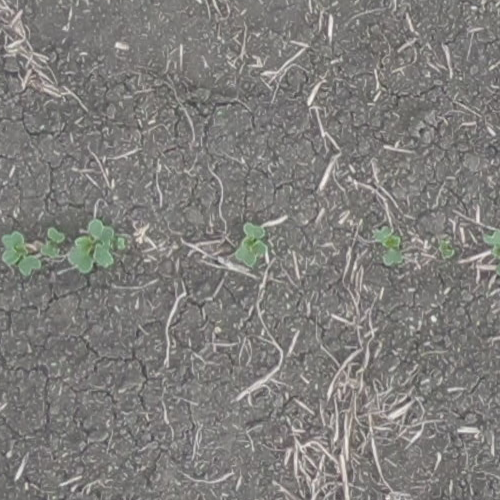plant: (67, 220, 122, 270), (0, 230, 39, 274), (235, 223, 268, 266), (372, 226, 399, 264), (484, 227, 499, 278), (44, 227, 64, 258), (438, 238, 454, 260)
